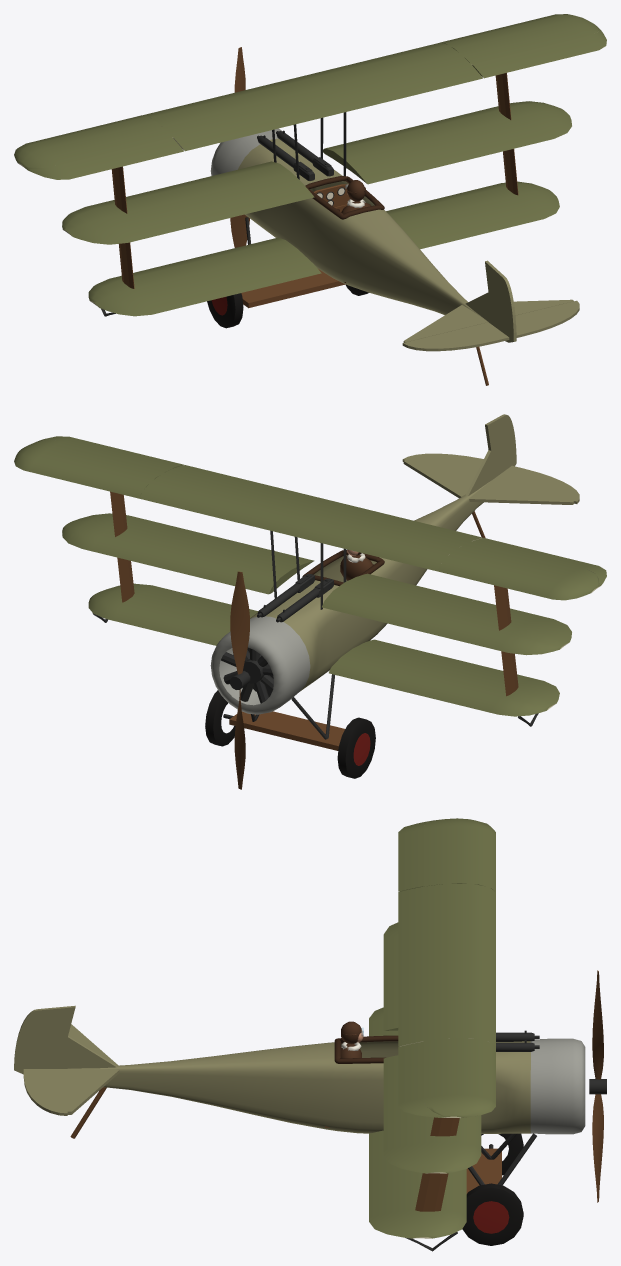
File: fokker_dri.glb
3 views of the same model, one above another, from view 1: azimuth 30°, elevation 25°; view 2: azimuth 150°, elevation 25°; view 3: azimuth 270°, elevation 25° (orthographic). The views are drawn at different scales.
Parts seen in each view (by area): view 1: Fuselage, Wing_Upper_L, Wing_Upper_R, Wing_Middle_L, Wing_Middle_R, Wing_Lower_L, Wing_Lower_R, Elevator, Struts, Aileron_L, Aileron_R, Undercarriage (+9 smaller); view 2: Wing_Upper_L, Wing_Upper_R, Wing_Middle_L, Wing_Middle_R, Wing_Lower_L, Fuselage, Wing_Lower_R, Cowling, Struts, Undercarriage, Wheels, Elevator (+11 smaller); view 3: Fuselage, Wing_Upper_R, Wing_Upper_L, Wing_Lower_R, Wing_Middle_R, Cowling, Wheels, Rudder, PropBlades, Undercarriage, Aileron_R, Elevator (+8 smaller).
Part boxes in pixels (x1,y1,x2,y2): Fuselage: (238,138,486,320); Wing_Upper_L: (14,79,333,168); Wing_Upper_R: (292,14,599,114); Wing_Middle_L: (62,161,314,244); Wing_Middle_R: (323,101,571,184); Wing_Lower_L: (88,237,321,316); Wing_Lower_R: (386,181,559,249); Elevator: (402,300,579,351); Struts: (111,73,518,288); Aileron_L: (25,137,183,179); Aileron_R: (472,28,606,78); Undercarriage: (101,217,488,385); Wing_Upper_L: (288,501,599,600); Wing_Upper_R: (14,439,333,534); Wing_Middle_L: (322,573,571,655); Wing_Middle_R: (62,513,314,594); Wing_Lower_L: (329,639,559,716); Fuselage: (250,482,488,691); Wing_Lower_R: (88,583,258,645); Cowling: (210,616,310,714); Struts: (110,491,518,696); Undercarriage: (92,511,538,750); Wheels: (205,690,375,778); Elevator: (402,453,579,503); Fuselage: (71,1041,530,1133); Wing_Upper_R: (398,960,495,1118); Wing_Upper_L: (398,818,495,969); Wing_Lower_R: (369,1130,466,1238); Wing_Middle_R: (383,1055,481,1173); Cowling: (530,1038,585,1134); Wheels: (462,1133,523,1245); Rudder: (14,1005,75,1074); PropBlades: (589,970,606,1202); Undercarriage: (70,1087,536,1251); Aileron_R: (398,1041,445,1117); Elevator: (23,1069,67,1115).
Bounding box in the file's own units: 7.19 × 2.81 × 6.06.
